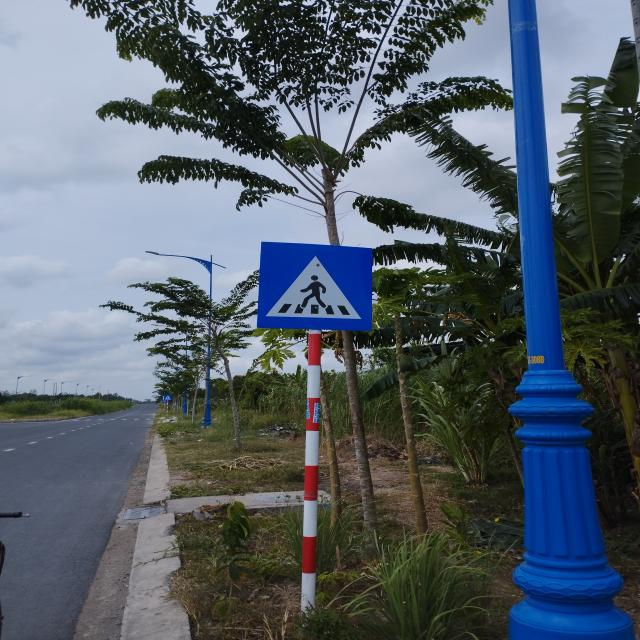Giao_Nhau_Duong_Uu_Tien: (256, 242, 372, 331)
